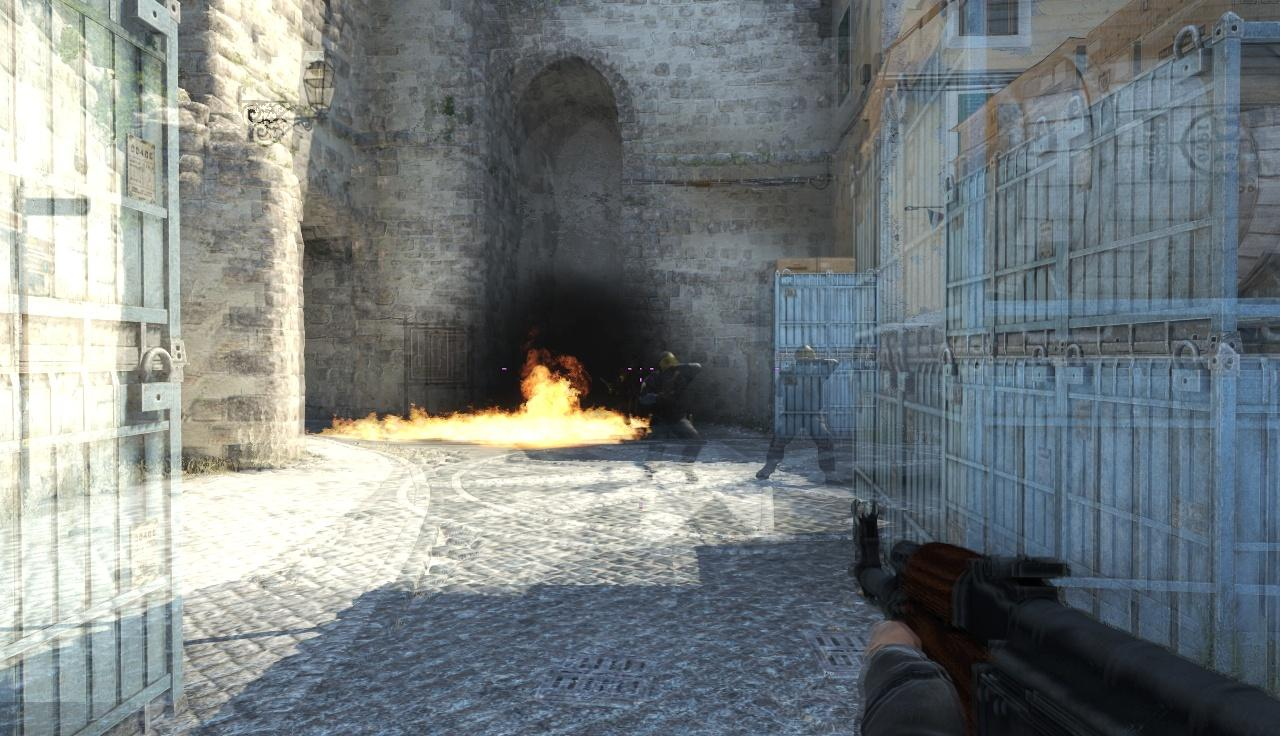ct: (778, 344, 835, 481), (648, 354, 693, 488)
cthead: (793, 345, 815, 371), (655, 353, 678, 375)
rifle: (855, 502, 1280, 736)
